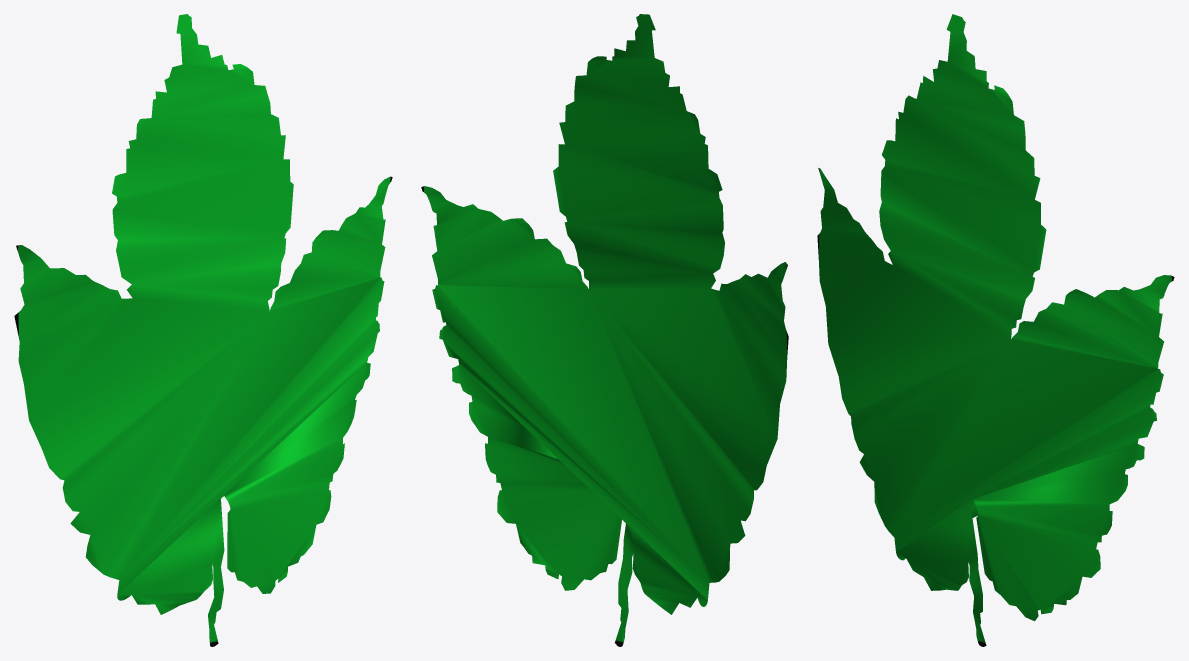
Rendered from WaxWorld_Leaf_4.fbx.
3 renders of one model, left to right at view 1: azimuth 30°, elevation 25°; view 2: azimuth 150°, elevation 25°; view 3: azimuth 330°, elevation 25°, orthographic. The views are drawn at different scales.
Visible parts, largest first — view 1: Line001; view 2: Line001; view 3: Line001.
Part boxes in pixels (x1,y1,x2,y2): Line001: (14,14,392,646); Line001: (421,14,788,646); Line001: (817,14,1174,646).
Size of the model in its own units: 69.73 by 114 by 9.27.
1 material, 1 textured.
